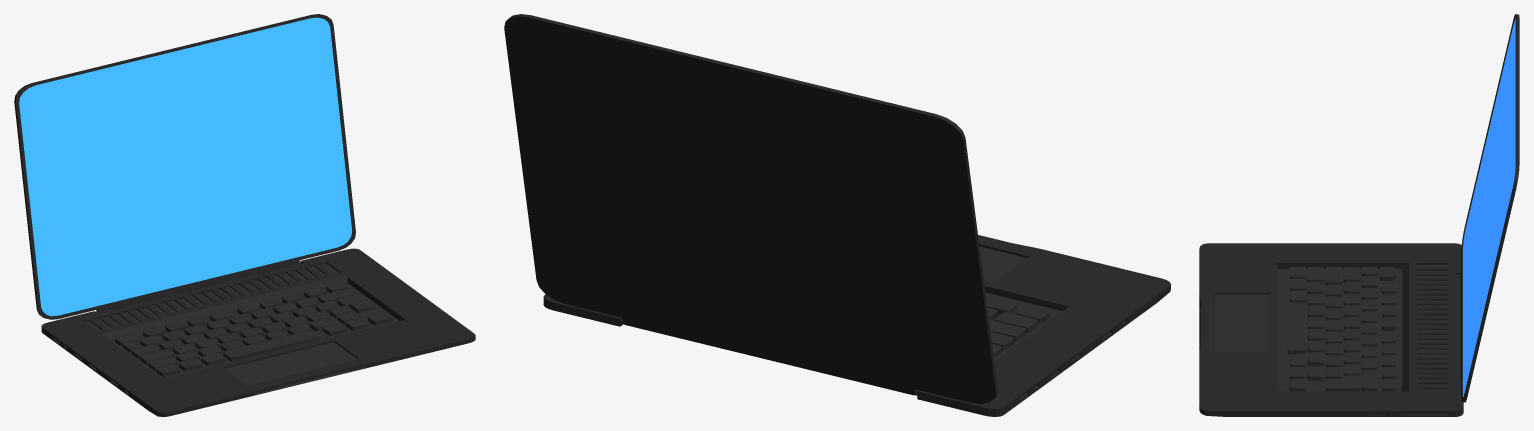
Rendered from Notebook.glb.
3 views of the same model, side by side, from view 1: azimuth 30°, elevation 25°; view 2: azimuth 150°, elevation 25°; view 3: azimuth 270°, elevation 25° (orthographic). The views are drawn at different scales.
Visible parts, largest first — view 1: Plane.001, Plane, Plane.002, Plane.003; view 2: Plane.003, Plane, Plane.002; view 3: Plane, Plane.002, Plane.001, Plane.003.
Boxes of the visible parts, bbox=[...] form: Plane.001: bbox=[19, 17, 352, 316]; Plane: bbox=[41, 248, 475, 416]; Plane.002: bbox=[85, 263, 398, 385]; Plane.003: bbox=[14, 14, 355, 319]; Plane.003: bbox=[504, 14, 997, 403]; Plane: bbox=[543, 235, 1170, 416]; Plane.002: bbox=[979, 246, 1061, 360]; Plane: bbox=[1199, 243, 1463, 416]; Plane.002: bbox=[1215, 265, 1448, 391]; Plane.001: bbox=[1463, 19, 1515, 396]; Plane.003: bbox=[1460, 14, 1519, 402].
Size of the model in its own units: 30 by 20.24 by 24.21.
